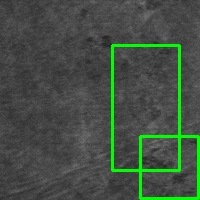rolled-in_scale: (112, 45, 179, 170), (140, 136, 198, 198)
